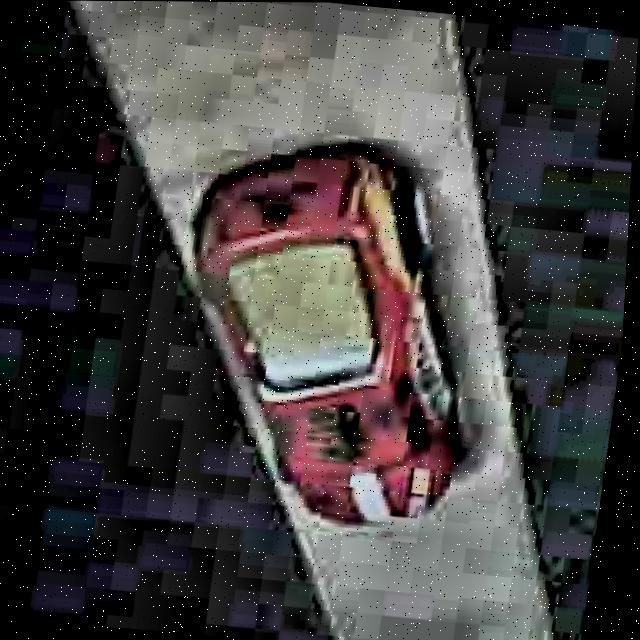car: (146, 123, 507, 539)
